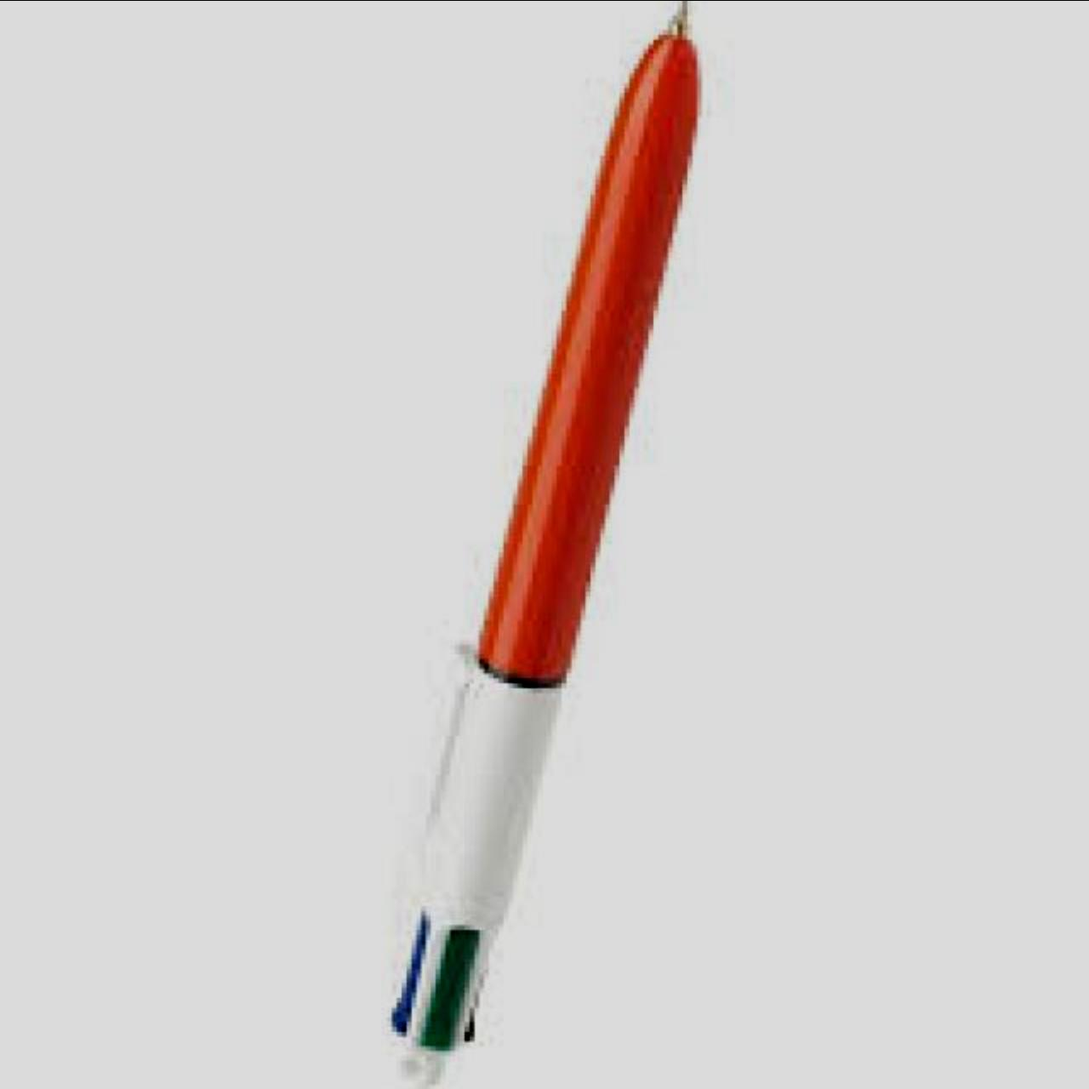pen: (373, 0, 708, 1084)
